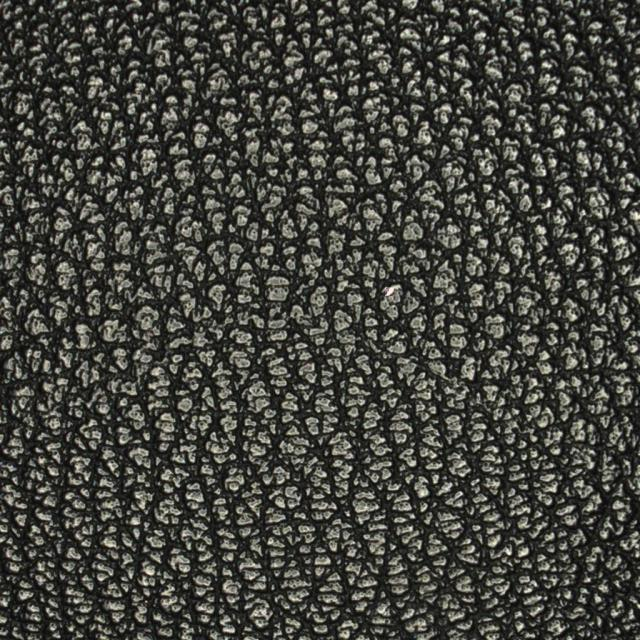pinhole: (342, 232, 464, 356)
